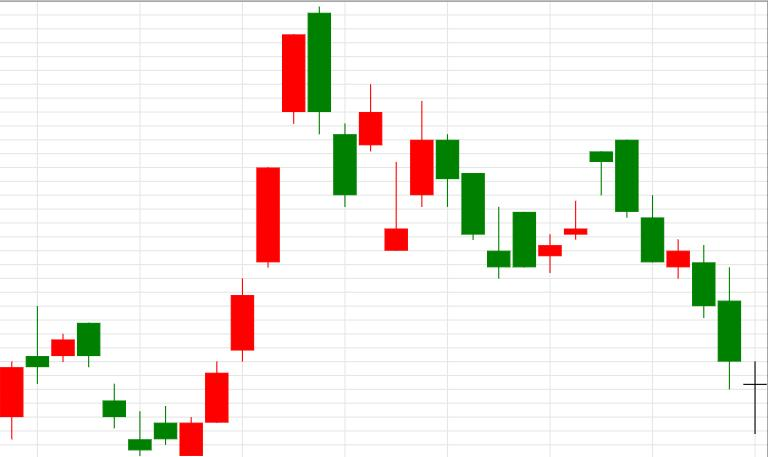bearish_engulfing_fall: (179, 6, 331, 456)
three_white_soldiers_rise: (78, 166, 279, 456)
